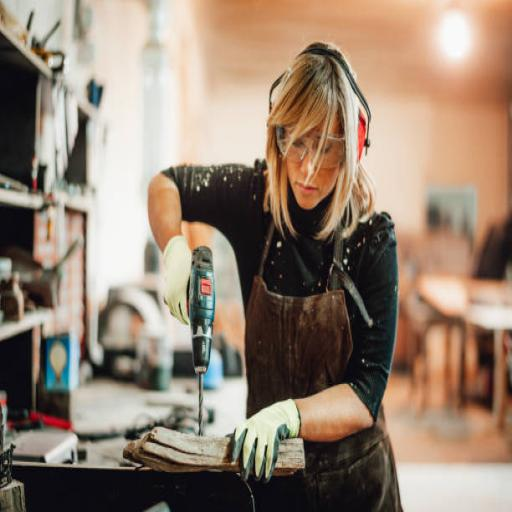No Helmet: (258, 28, 380, 254)
gloves: (148, 223, 224, 334), (228, 378, 306, 486)
jacket: (223, 201, 415, 512)
safety glasses: (266, 102, 367, 168)
